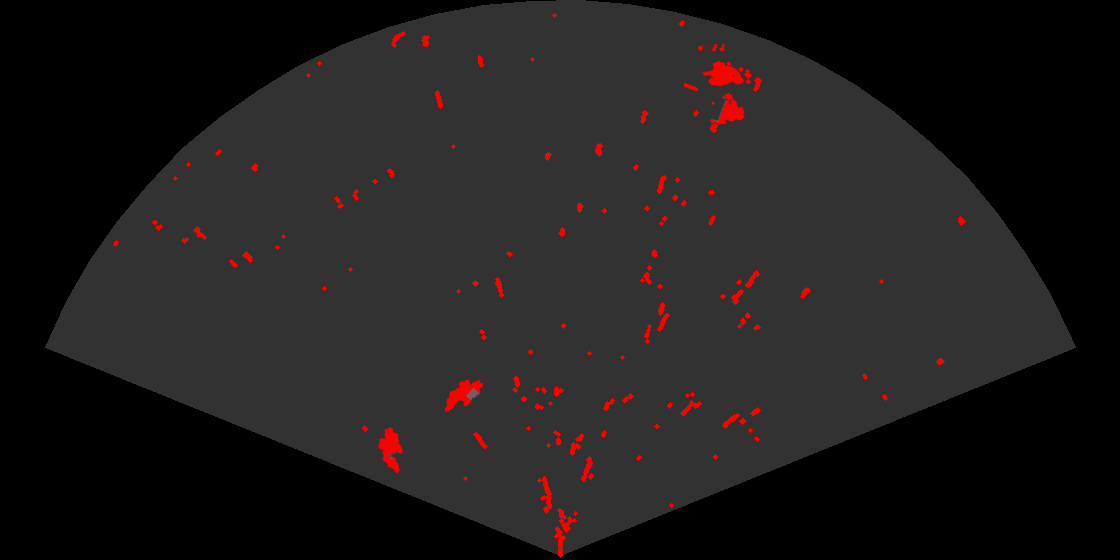AUV: (443, 378, 485, 413), (377, 425, 405, 475)
cage: (684, 44, 753, 126)
